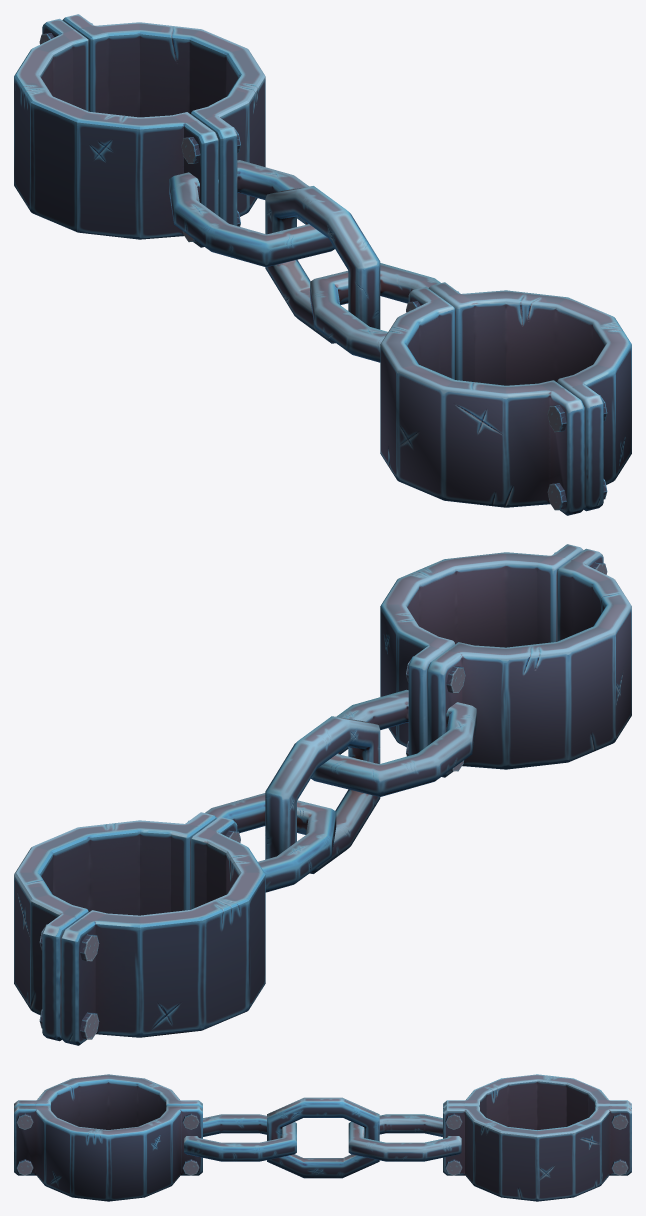
The model's file is shackles.fbx.
3 renders of one model, top to bottom at view 1: azimuth 30°, elevation 25°; view 2: azimuth 150°, elevation 25°; view 3: azimuth 270°, elevation 25°, orthographic. The views are drawn at different scales.
Visible parts, largest first — view 1: shackle, shackle.002, chain, nail.001; view 2: shackle.002, shackle, chain, nail.003; view 3: shackle.002, shackle, chain, nail.002, nail.001, nail.003, nail.004.
Part boxes in pixels (box(x1,y1,x2,y2)): shackle: box(380, 282, 631, 515); shackle.002: box(14, 14, 265, 247); chain: box(169, 160, 440, 362); nail.001: box(547, 395, 607, 510); shackle.002: box(14, 812, 265, 1045); shackle: box(380, 544, 631, 777); chain: box(205, 689, 476, 892); nail.003: box(39, 924, 99, 1039); shackle.002: box(443, 1074, 631, 1201); shackle: box(14, 1074, 202, 1201); chain: box(184, 1097, 461, 1178); nail.002: box(182, 1113, 199, 1175); nail.001: box(16, 1113, 33, 1175); nail.003: box(611, 1113, 628, 1175); nail.004: box(445, 1113, 462, 1175).
Size of the model in its own units: 200 by 114 by 839.
